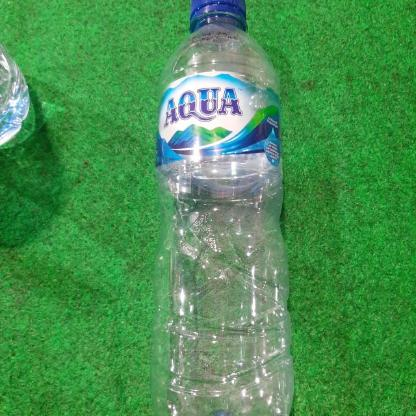Plastic Bottle: (155, 0, 297, 416)
